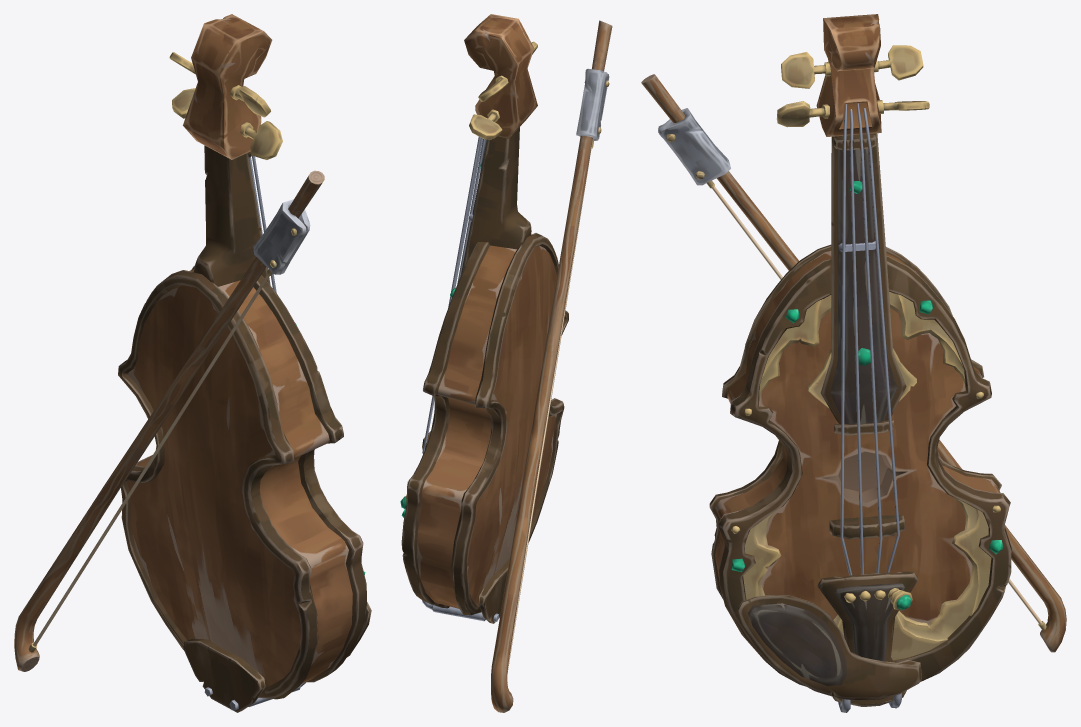
Rendered from stylized_violin.glb.
3 views of the same model, side by side, from view 1: azimuth 30°, elevation 25°; view 2: azimuth 150°, elevation 25°; view 3: azimuth 270°, elevation 25° (orthographic). The views are drawn at different scales.
Parts seen in each view (by area): view 1: Violin_texturing, Smichoktexturing; view 2: Violin_texturing, Smichoktexturing; view 3: Violin_texturing, Smichoktexturing.
Boxes of the visible parts, x1,y1,x2,y2 form: Violin_texturing: (118, 14, 371, 712); Smichoktexturing: (14, 170, 324, 671); Violin_texturing: (400, 14, 568, 623); Smichoktexturing: (491, 20, 612, 712); Violin_texturing: (709, 14, 1011, 712); Smichoktexturing: (641, 74, 1066, 652).
Bounding box in the file's own units: 0.1796 × 0.5887 × 0.3329.
Materials: 2 (2 with a texture image).
